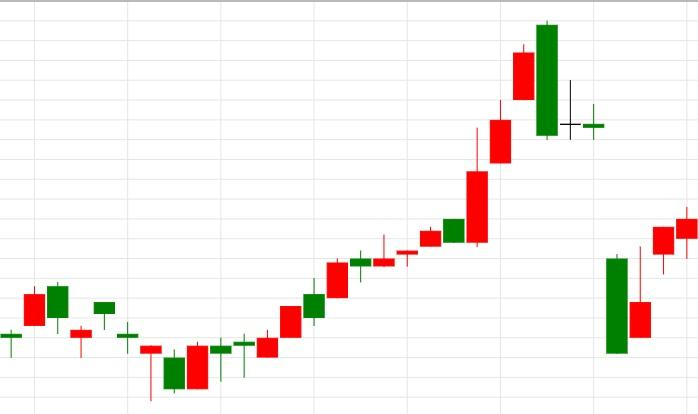bearish_engulfing_fall: (163, 21, 558, 393)
